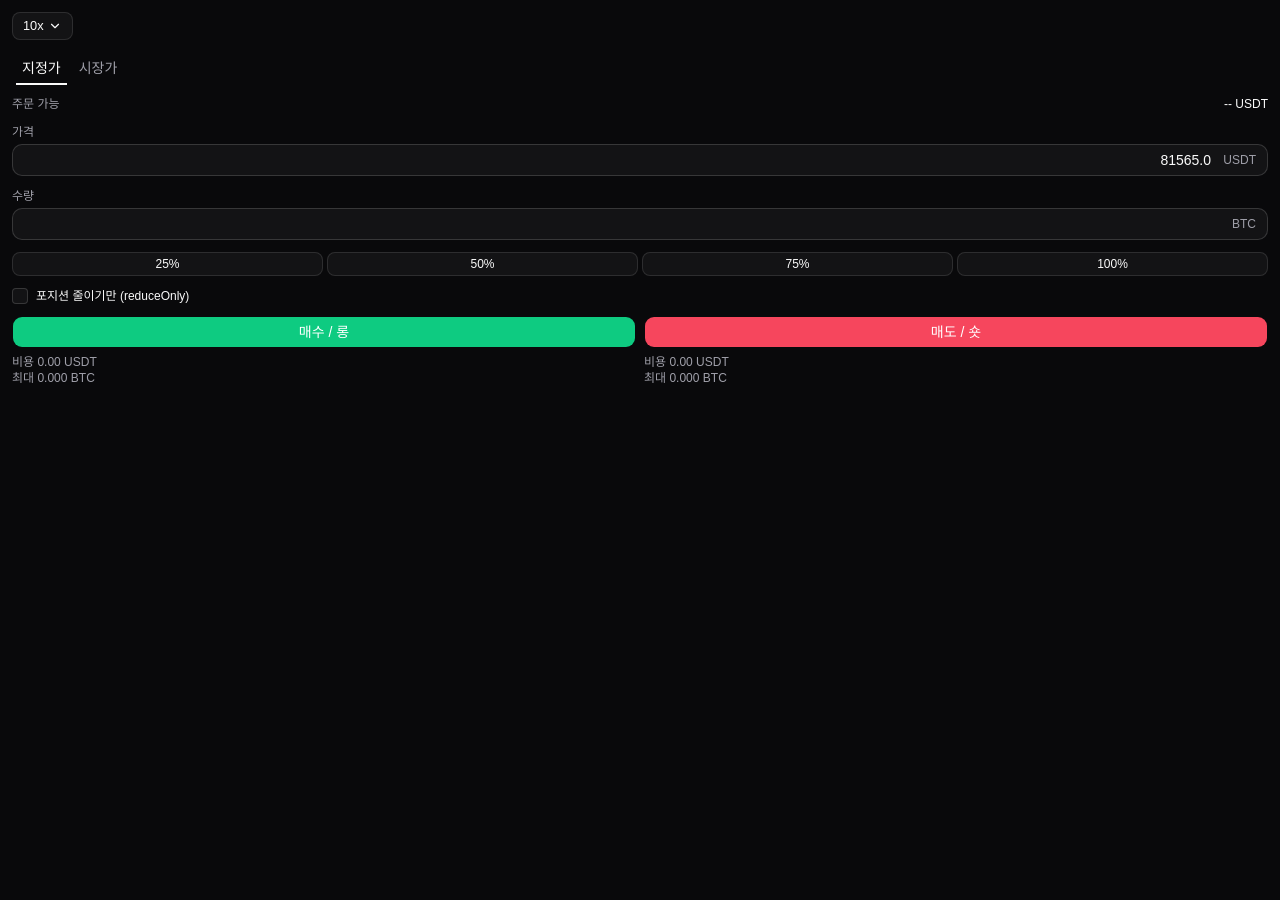
Test: OrderForm › 지정가는 가격과 reduceOnly를 함께 보내고, 대기 주문을 넣었다고 알린다
Expected: the field showing "81565.0" is shown, [12,144,1268,176]
In the field labelled "수량": (640, 224) [12,208,1268,240], type "0.01"
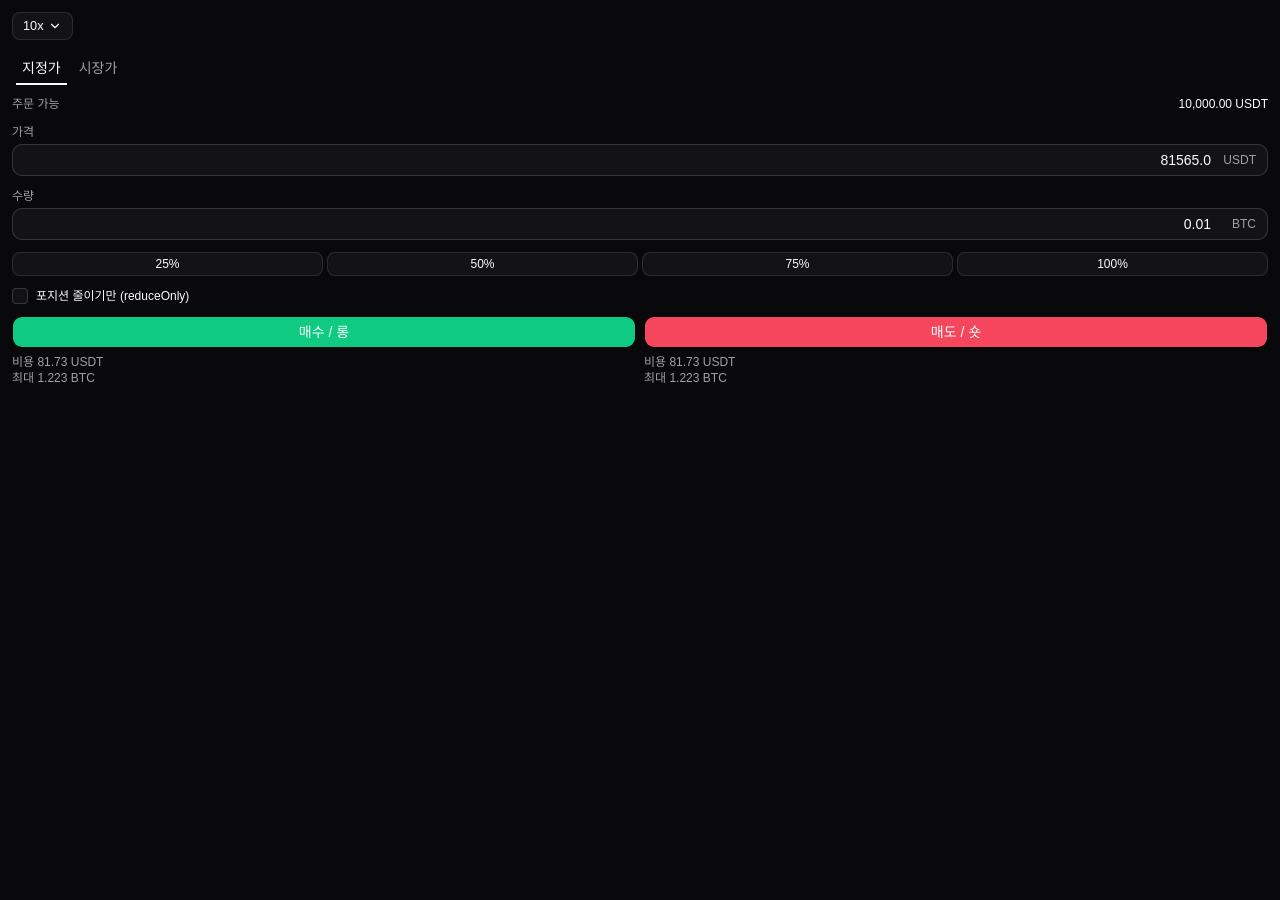
Click the checkbox named "포지션 줄이기만": (20, 296) [12,288,28,304]
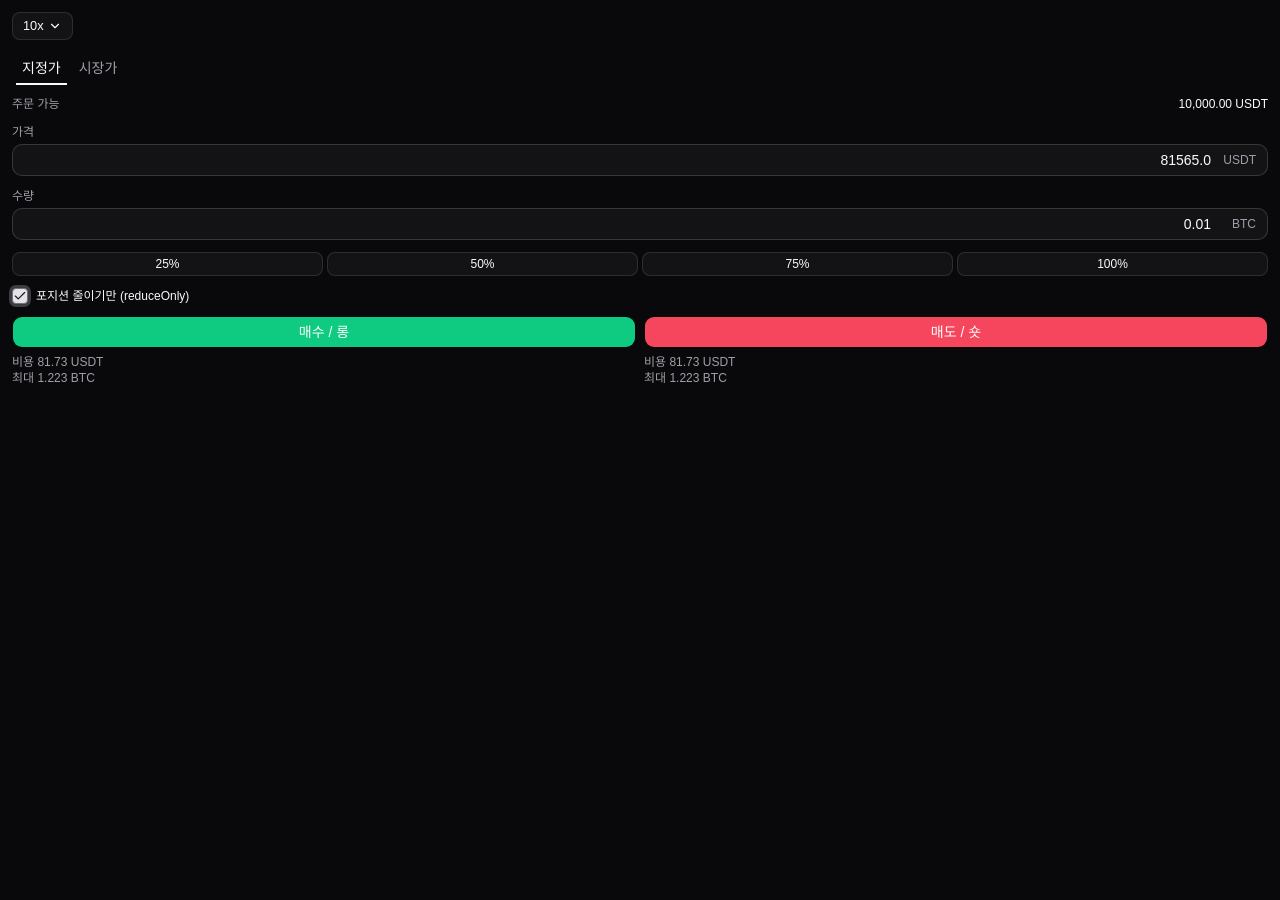
Click the button "매도 / 숏": (956, 332) [644,316,1268,348]
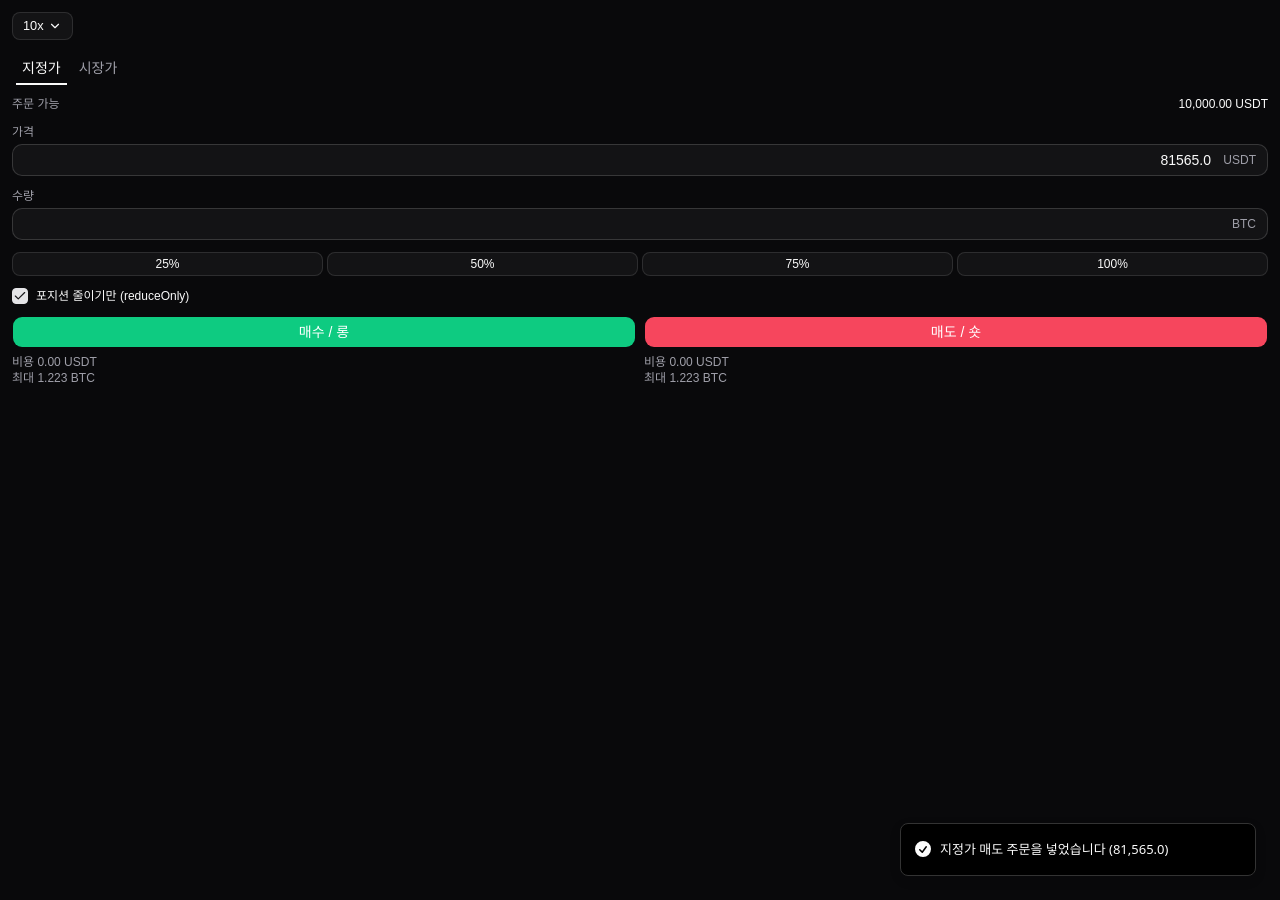
Expected: the text "지정가 매도 주문을 넣었습니다 (81,565.0)" is shown, [940,840,1168,859]
